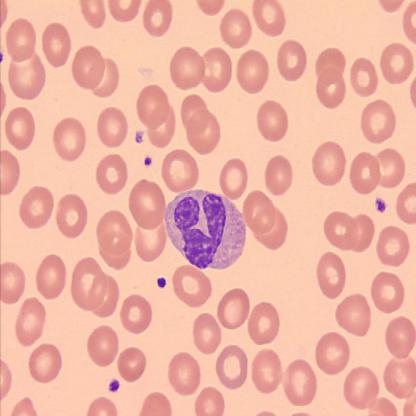Monocyte: (162, 187, 248, 272)
